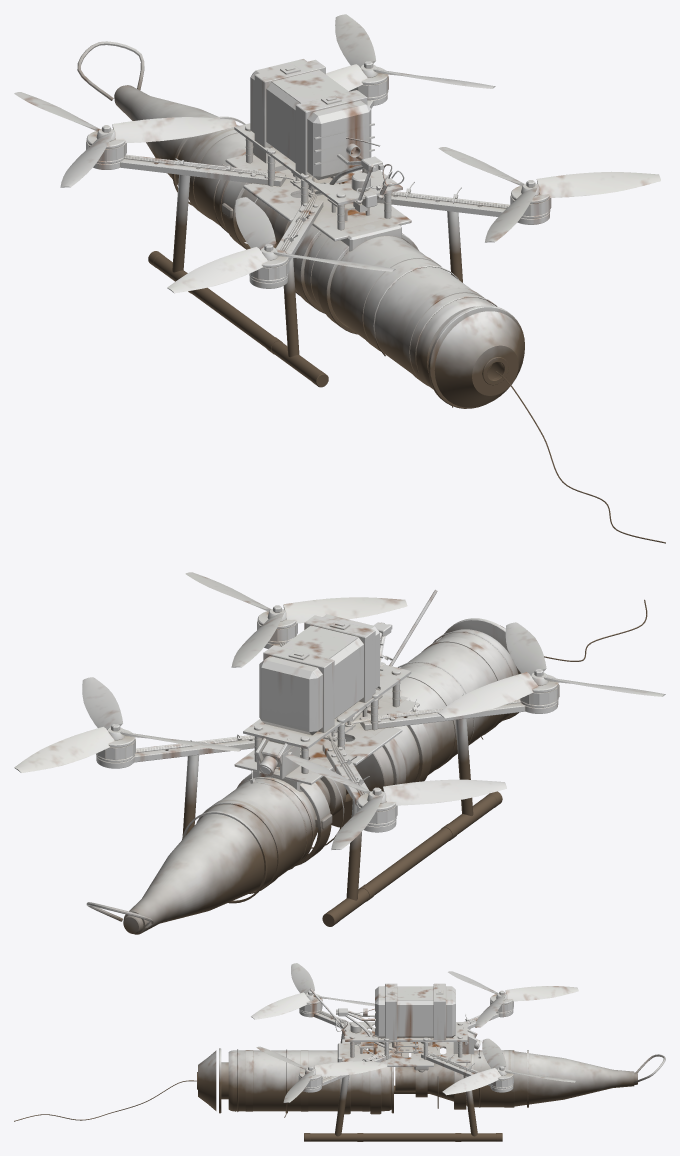
File: drone-fpv10-v5.glb
The picture shows the model from 3 angles, top to bottom: view 1: azimuth 30°, elevation 25°; view 2: azimuth 150°, elevation 25°; view 3: azimuth 270°, elevation 25°; orthographic projection. The views are drawn at different scales.
Parts seen in each view (by area): view 1: fiber_spool_wound_body, plastic_spool_payout_cone, plastic_battery_pack, paint_warhead_body, carbon_skid_l, prop_rl_blades_plastic, prop_rr_blades_plastic, prop_fl_blades_plastic, carbon_frame_bottom_plate, strap_battery_kevlar, prop_fr_blades_plastic, tape_spool_retaining_bands (+11 smaller); view 2: paint_warhead_body, fiber_spool_wound_body, plastic_battery_pack, carbon_skid_l, prop_fr_blades_plastic, prop_rl_blades_plastic, prop_fl_blades_plastic, prop_rr_blades_plastic, carbon_frame_bottom_plate, strap_battery_kevlar, carbon_frame_top_plate, strap_warhead_ratchet (+16 smaller); view 3: paint_warhead_body, fiber_spool_wound_body, plastic_battery_pack, carbon_skid_r, prop_fr_blades_plastic, prop_rr_blades_plastic, prop_fl_blades_plastic, carbon_frame_bottom_plate, prop_rl_blades_plastic, strap_battery_kevlar, tape_spool_retaining_bands, plastic_spool_payout_cone (+10 smaller).
Boxes of the visible parts, bbox=[...] form: fiber_spool_wound_body: bbox=[304, 232, 493, 388]; plastic_spool_payout_cone: bbox=[434, 311, 524, 407]; plastic_battery_pack: bbox=[250, 59, 371, 179]; paint_warhead_body: bbox=[114, 85, 278, 245]; carbon_skid_l: bbox=[153, 174, 319, 381]; prop_rl_blades_plastic: bbox=[167, 197, 395, 293]; prop_rr_blades_plastic: bbox=[438, 147, 660, 242]; prop_fl_blades_plastic: bbox=[14, 92, 236, 187]; carbon_frame_bottom_plate: bbox=[225, 147, 411, 241]; strap_battery_kevlar: bbox=[254, 59, 367, 176]; prop_fr_blades_plastic: bbox=[326, 14, 495, 90]; tape_spool_retaining_bands: bbox=[304, 233, 489, 385]; paint_warhead_body: bbox=[123, 777, 348, 934]; fiber_spool_wound_body: bbox=[375, 629, 518, 785]; plastic_battery_pack: bbox=[259, 614, 379, 735]; carbon_skid_l: bbox=[331, 718, 496, 920]; prop_fr_blades_plastic: bbox=[14, 677, 242, 772]; prop_rl_blades_plastic: bbox=[438, 622, 665, 718]; prop_fl_blades_plastic: bbox=[285, 754, 506, 849]; prop_rr_blades_plastic: bbox=[185, 572, 407, 667]; carbon_frame_bottom_plate: bbox=[234, 694, 419, 784]; strap_battery_kevlar: bbox=[263, 615, 375, 732]; carbon_frame_top_plate: bbox=[243, 664, 411, 749]; strap_warhead_ratchet: bbox=[236, 772, 346, 865]; paint_warhead_body: bbox=[395, 1050, 634, 1107]; fiber_spool_wound_body: bbox=[228, 1050, 391, 1111]; plastic_battery_pack: bbox=[375, 986, 455, 1037]; carbon_skid_r: bbox=[310, 1075, 495, 1141]; prop_fr_blades_plastic: bbox=[442, 1038, 576, 1095]; prop_rr_blades_plastic: bbox=[256, 1046, 387, 1102]; prop_fl_blades_plastic: bbox=[448, 971, 578, 1027]; carbon_frame_bottom_plate: bbox=[342, 1039, 470, 1066]; prop_rl_blades_plastic: bbox=[251, 963, 374, 1019]; strap_battery_kevlar: bbox=[385, 983, 445, 1039]; tape_spool_retaining_bands: bbox=[245, 1050, 369, 1111]; plastic_spool_payout_cone: bbox=[198, 1050, 216, 1110].
Bounding box in the file's own units: 0.539 × 0.228 × 1.06.
Materials: 1 (1 with a texture image).
